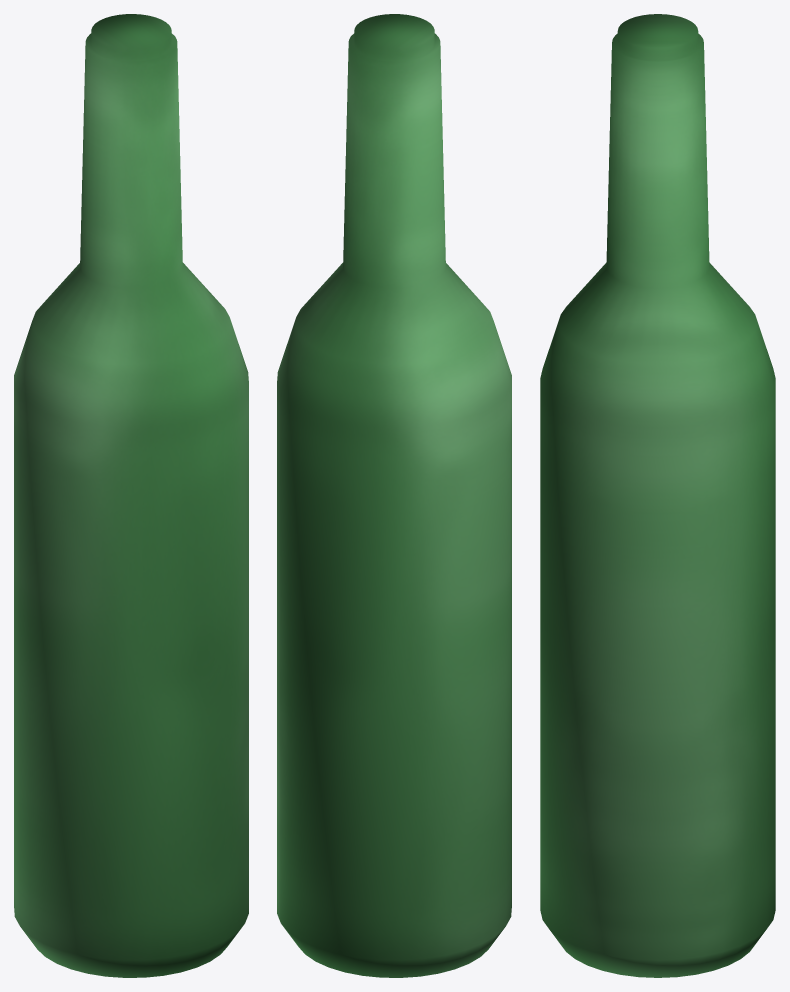
File: POWERUP_DIZZY.fbx
3 renders of one model, left to right at view 1: azimuth 30°, elevation 25°; view 2: azimuth 150°, elevation 25°; view 3: azimuth 270°, elevation 25°, orthographic.
Visible parts, largest first — view 1: Dizzy; view 2: Dizzy; view 3: Dizzy.
Part boxes in pixels (x1,y1,x2,y2): Dizzy: [14, 14, 248, 977]; Dizzy: [277, 14, 511, 977]; Dizzy: [540, 14, 775, 977].
Size of the model in its own units: 101 by 430 by 101.
